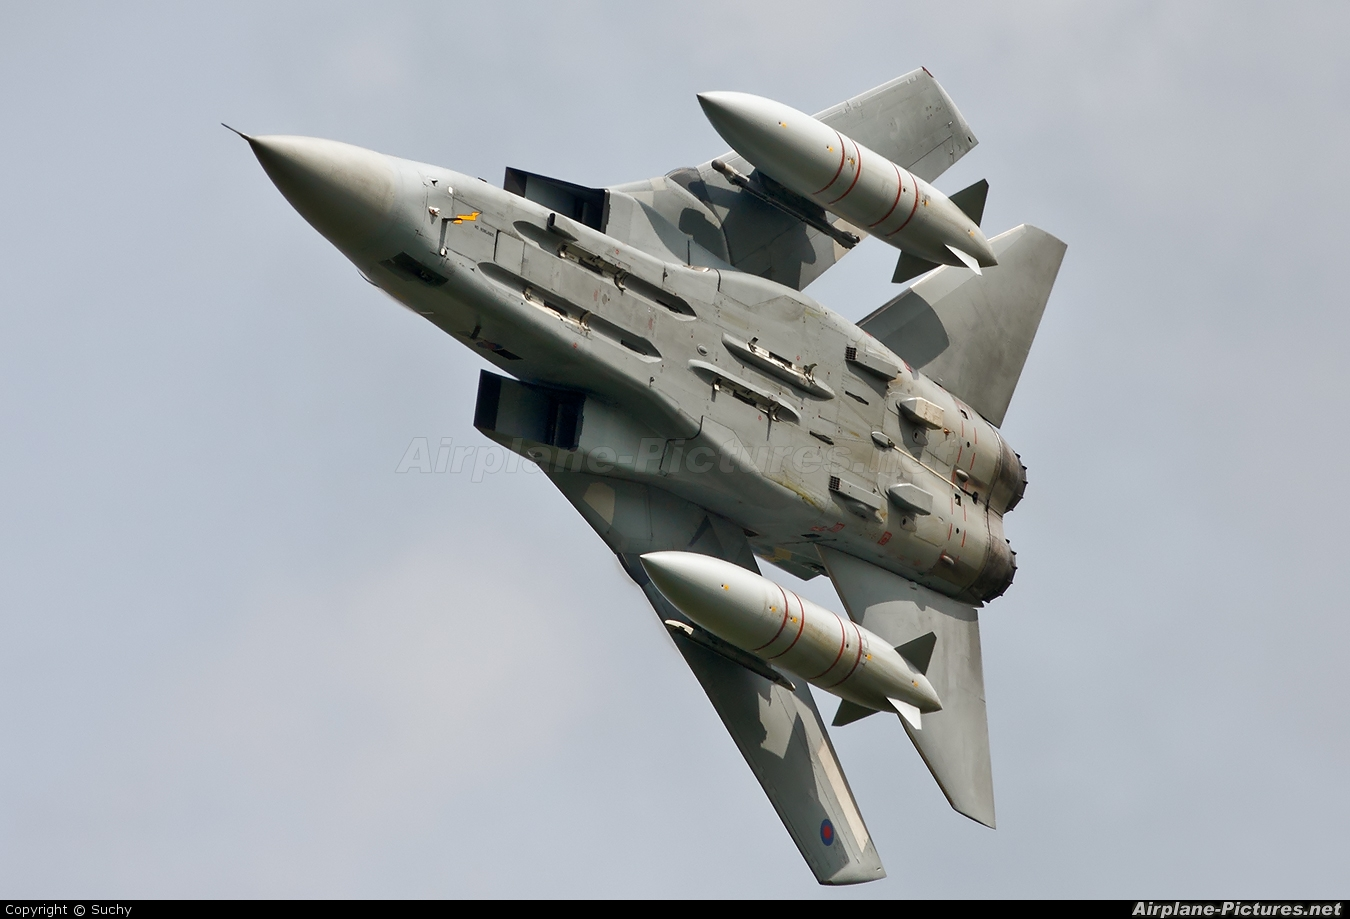Tornado: (219, 64, 1068, 886)
